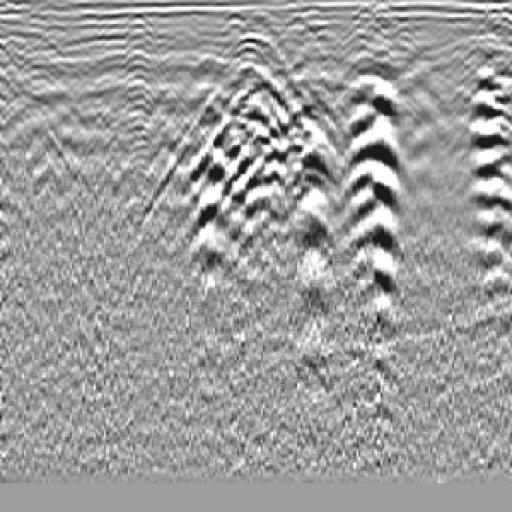metalic: (335, 58, 417, 308)
